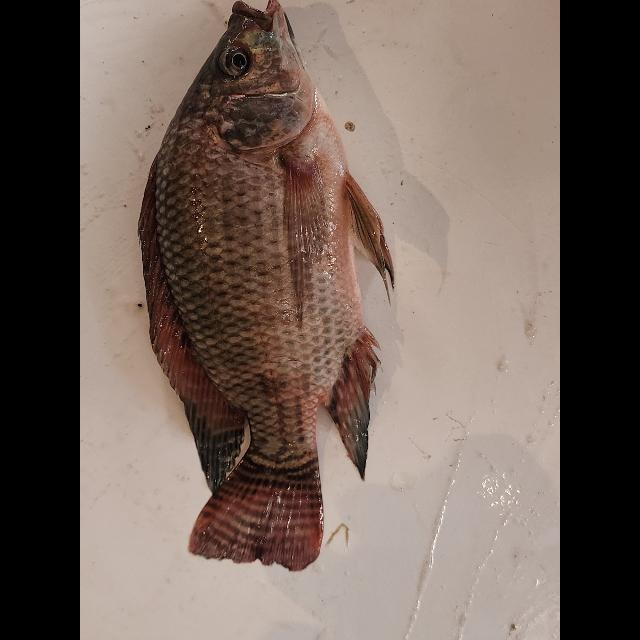Tilapia: (138, 1, 398, 572)
